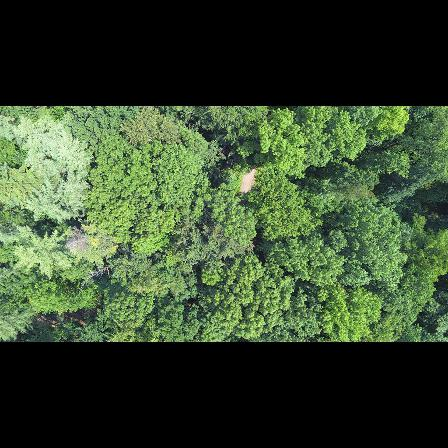Dead: (76, 262, 112, 290), (64, 231, 96, 256)
